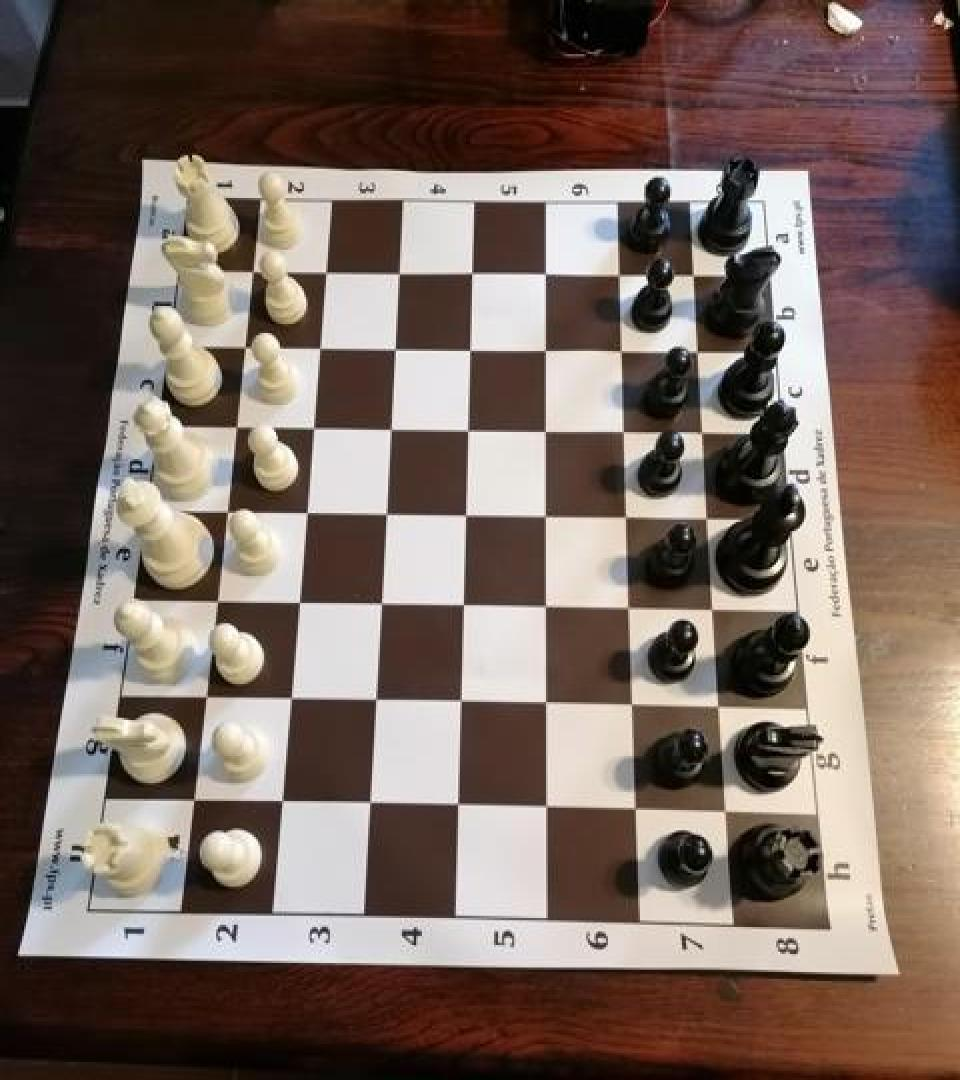xcorner: (678, 256, 708, 290), (603, 256, 633, 290), (529, 256, 559, 290), (455, 255, 485, 289), (382, 255, 412, 289), (308, 255, 338, 289), (236, 254, 266, 288), (683, 333, 713, 367), (606, 332, 636, 366), (529, 332, 559, 366), (453, 330, 483, 364), (378, 330, 408, 364), (302, 330, 332, 364), (227, 330, 257, 364), (688, 414, 718, 448), (609, 413, 639, 447), (530, 412, 560, 446), (452, 410, 482, 444), (374, 410, 404, 444), (296, 410, 326, 444), (219, 408, 249, 442), (694, 500, 724, 534), (612, 498, 642, 532), (531, 497, 561, 531), (450, 496, 480, 530), (369, 495, 399, 529), (289, 494, 319, 528), (700, 590, 730, 624), (615, 590, 645, 624), (531, 588, 561, 622), (448, 586, 478, 620), (364, 585, 394, 619), (282, 584, 312, 618), (200, 582, 230, 616), (619, 686, 649, 720), (532, 685, 562, 719), (445, 683, 475, 717), (359, 682, 389, 716), (274, 680, 304, 714), (189, 678, 219, 712), (713, 793, 743, 827), (622, 791, 652, 825), (533, 788, 563, 822), (443, 788, 473, 822), (354, 785, 384, 819), (266, 783, 296, 817), (178, 780, 208, 814), (209, 493, 239, 526), (706, 689, 736, 722)
